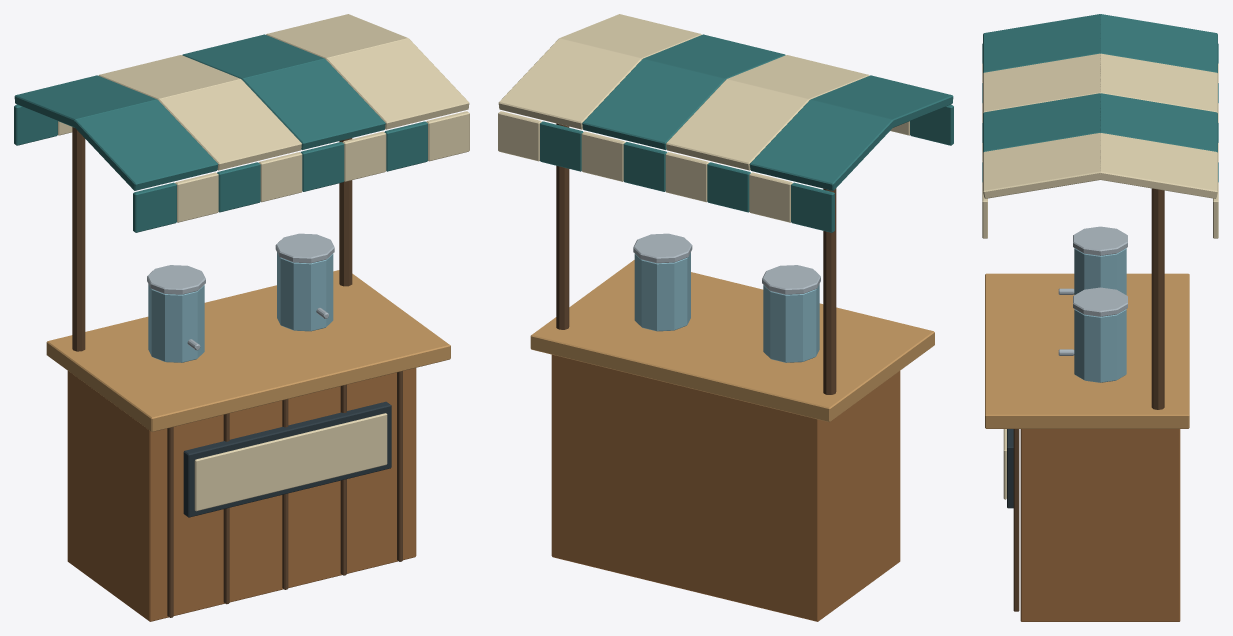
File: b10_lemonade_stand_with_canopy.glb
The picture shows the model from 3 angles, left to right: view 1: azimuth 30°, elevation 25°; view 2: azimuth 150°, elevation 25°; view 3: azimuth 270°, elevation 25°; orthographic projection. The views are drawn at different scales.
Visible parts, largest first — view 1: b10_lemonade_stand_with_canopy; view 2: b10_lemonade_stand_with_canopy; view 3: b10_lemonade_stand_with_canopy.
Boxes of the visible parts, left/top/right/bottom form: b10_lemonade_stand_with_canopy: left=14, top=14, right=469, bottom=621; b10_lemonade_stand_with_canopy: left=498, top=14, right=953, bottom=621; b10_lemonade_stand_with_canopy: left=982, top=14, right=1218, bottom=621.
Bounding box in the file's own units: 1.43 × 1.96 × 0.902.
